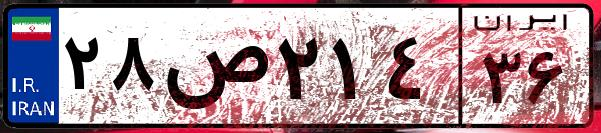1: (330, 28, 385, 110)
2: (270, 28, 330, 110), (57, 26, 110, 100)
3: (475, 38, 525, 113)
4: (385, 28, 445, 110)
6: (525, 38, 570, 115)
8: (110, 28, 158, 98)
ص: (158, 20, 270, 120)
